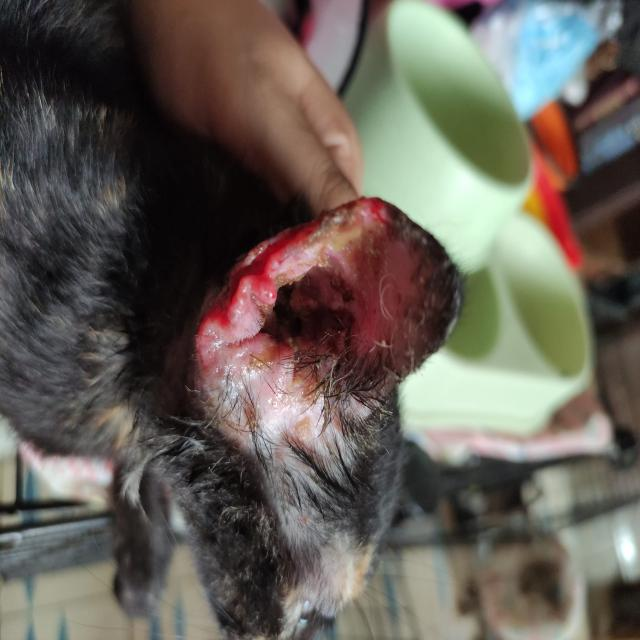Ringworm: (186, 208, 344, 360)
